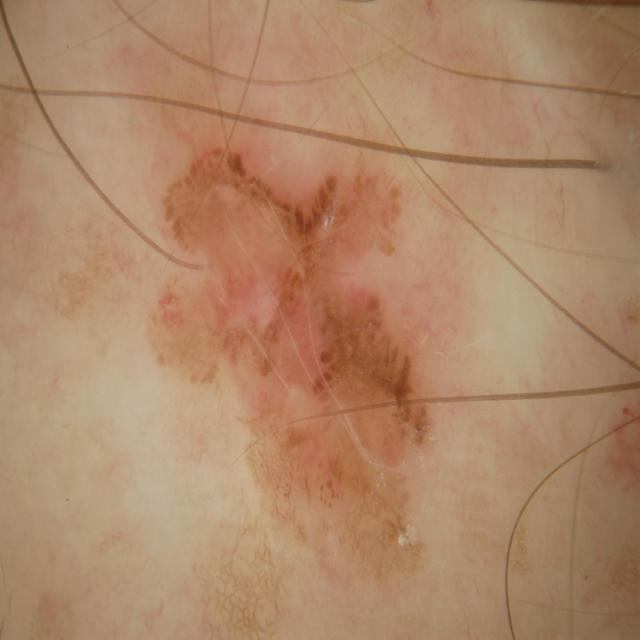Melanoma: (151, 130, 455, 578)
